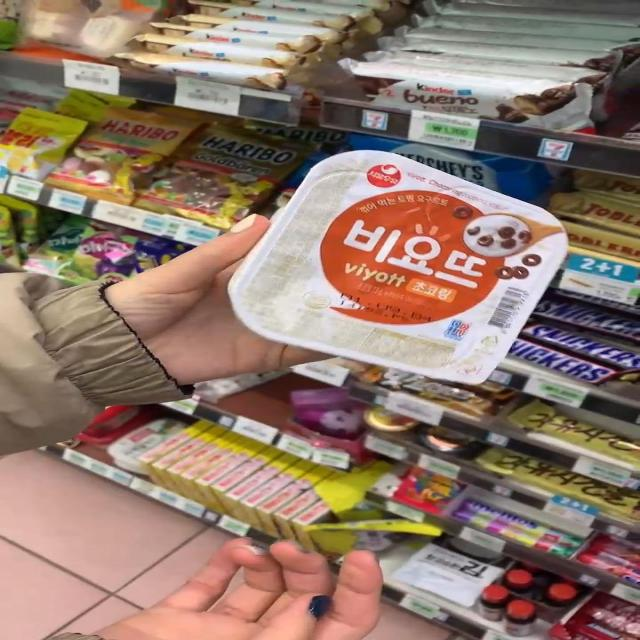bYott: (229, 150, 567, 384)
